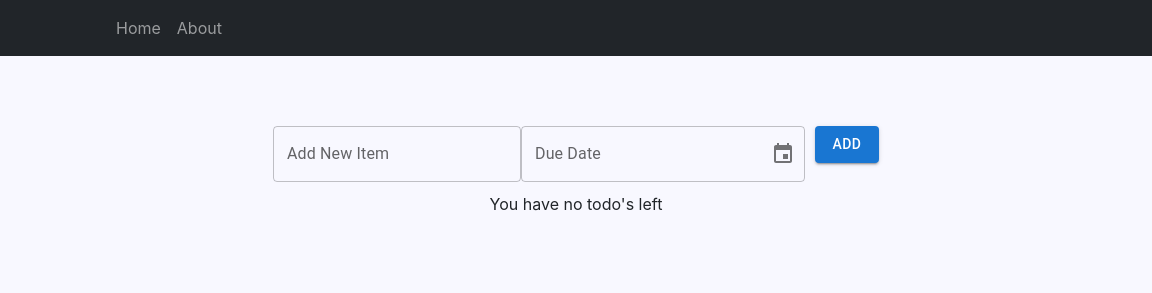
Scenario: test that App component can be deleted thru checkbox
Type "History Test" into the field labelled "Add New Item" at (397, 154), box x1=273 y1=126 x2=521 y2=182
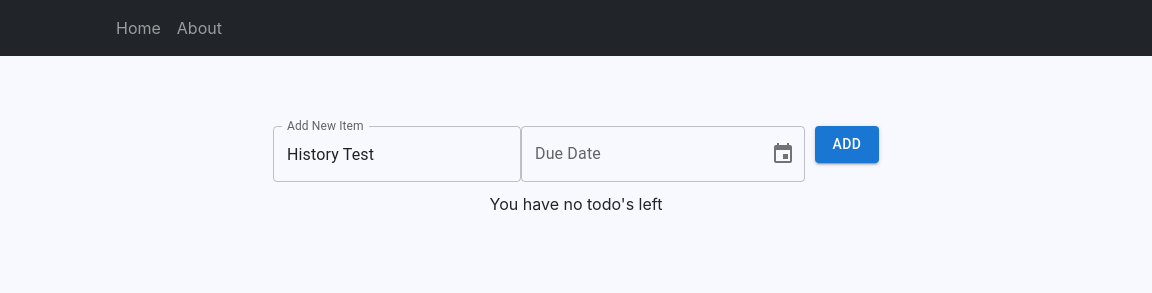
Type "05/30/2023" into the field with placeholder "mm/dd/yyyy" at (638, 154), box x1=521 y1=126 x2=755 y2=182
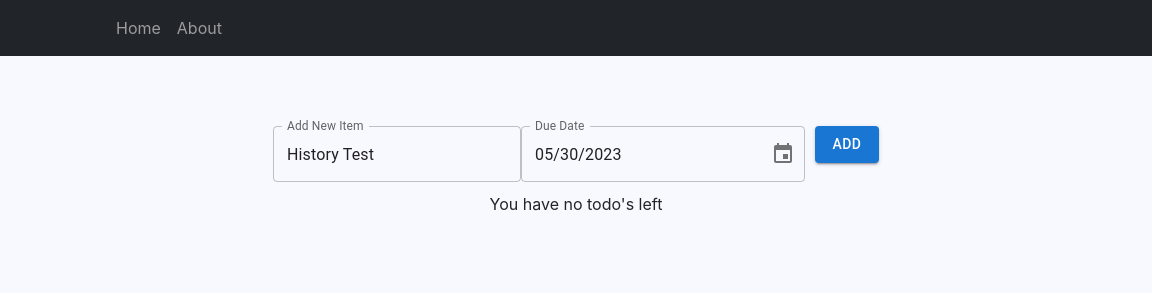
Click the button "Add" at (847, 144), box x1=815 y1=126 x2=879 y2=162
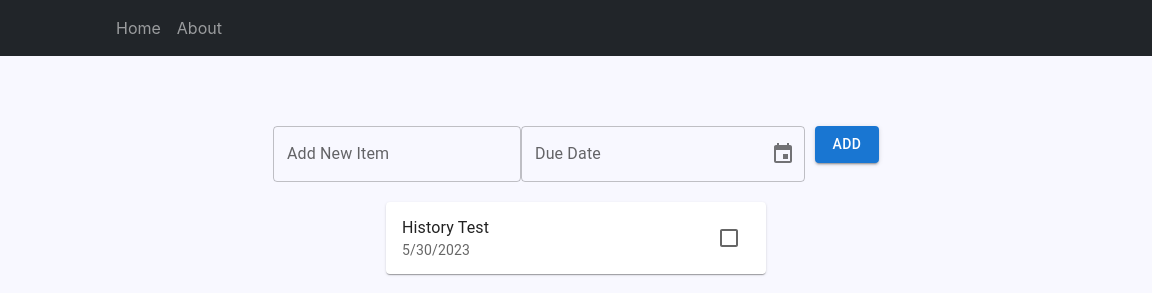
Click the checkbox at (729, 238), box x1=717 y1=226 x2=741 y2=250
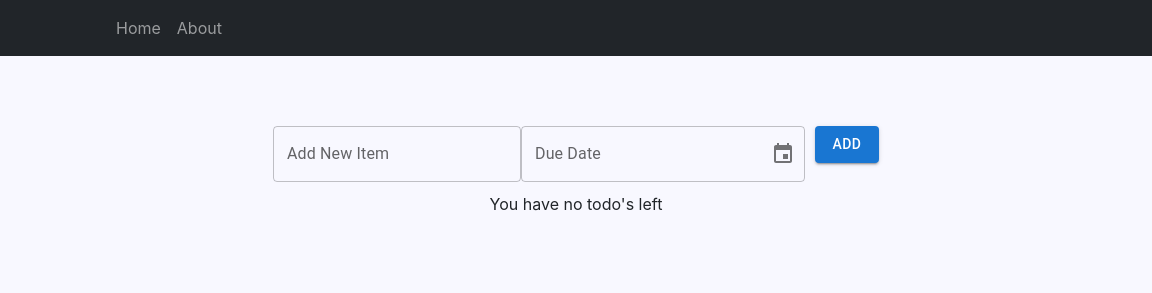
Now the text "You have no todo's left" is shown, box x1=490 y1=194 x2=662 y2=214
